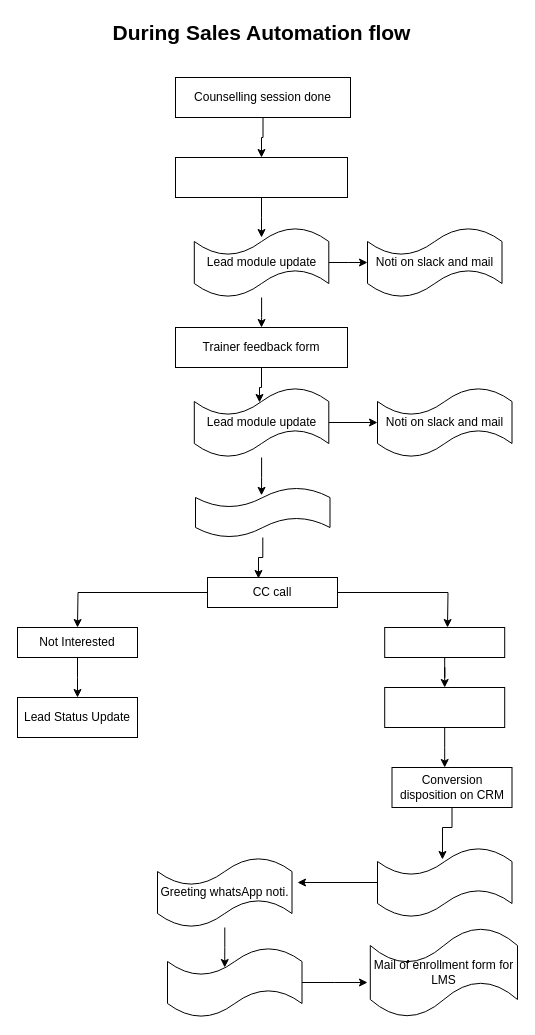
This 535x1035 diagram has some shape labels left out. Here are the shapes that lost their labels. From the top down, the centre of each, then its label:
the point at 261,177: Parent feedback form
the point at 262,512: Session feedback call
the point at 444,642: Interested
the point at 444,707: Negotiation (CC call)
the point at 444,882: Automated greeting call to the customer
the point at 234,982: Greeting Emailer
